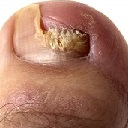Nail Fungal Infection: (34, 4, 96, 61)
